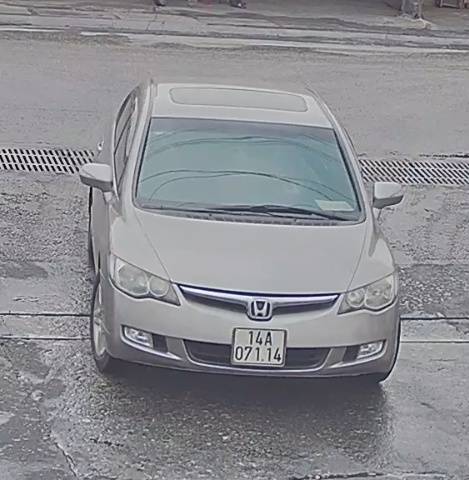vehicle plate: (227, 322, 290, 370)
